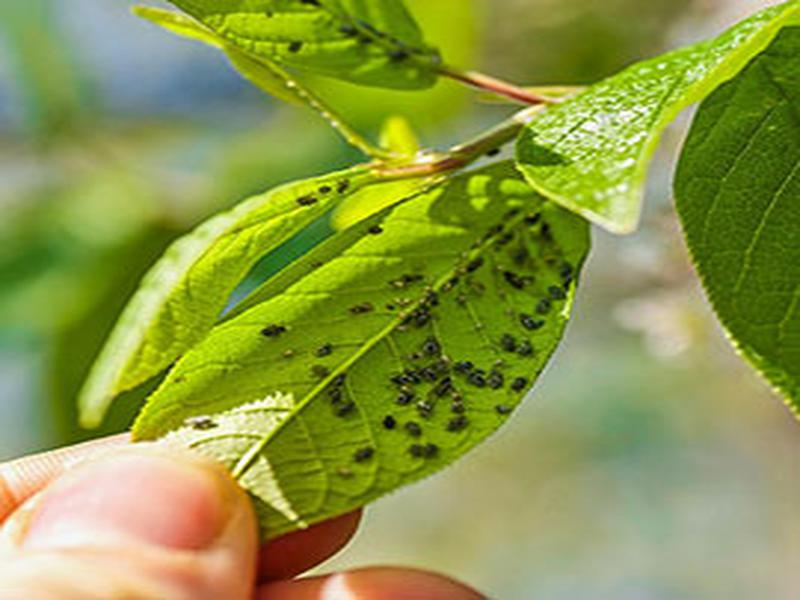Mealy_bug: (237, 185, 599, 467)
